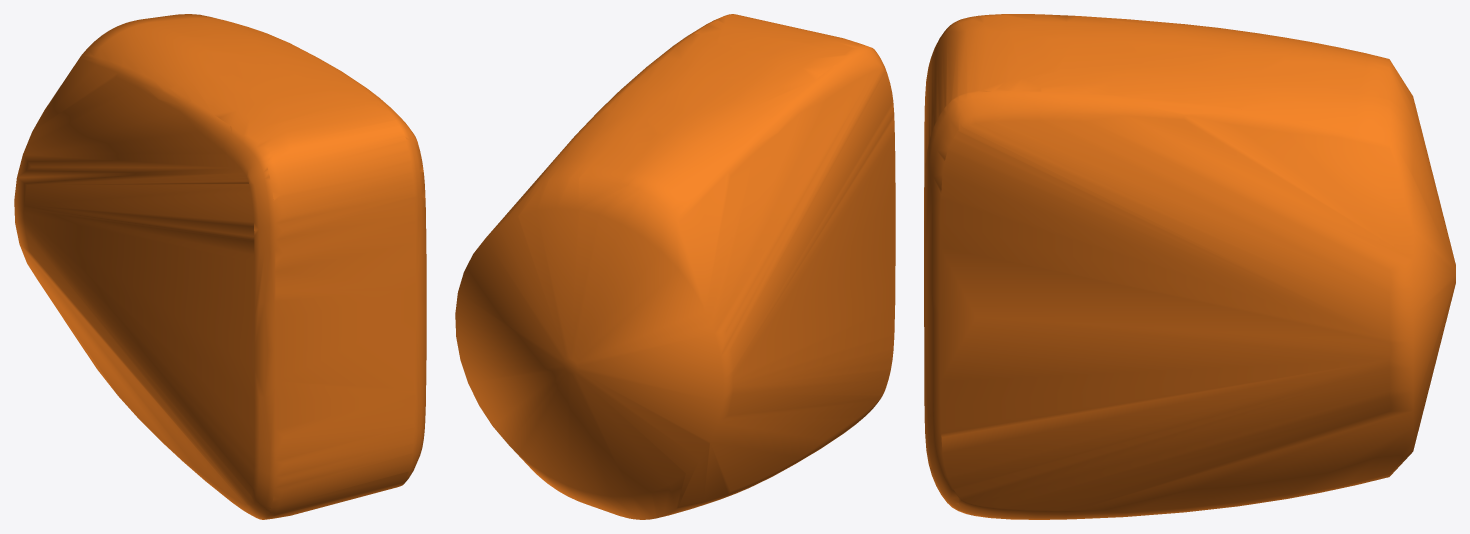
3 views of the same model, side by side, from view 1: azimuth 30°, elevation 25°; view 2: azimuth 150°, elevation 25°; view 3: azimuth 270°, elevation 25° (orthographic). The views are drawn at different scales.
Parts seen in each view (by area): view 1: gripper_frame; view 2: gripper_frame; view 3: gripper_frame.
Boxes of the visible parts, x1=… form: gripper_frame: x1=14, y1=14, x2=426, y2=519; gripper_frame: x1=455, y1=14, x2=895, y2=519; gripper_frame: x1=924, y1=14, x2=1455, y2=519.
Size of the model in its own units: 0.075 by 0.1021 by 0.1121.
